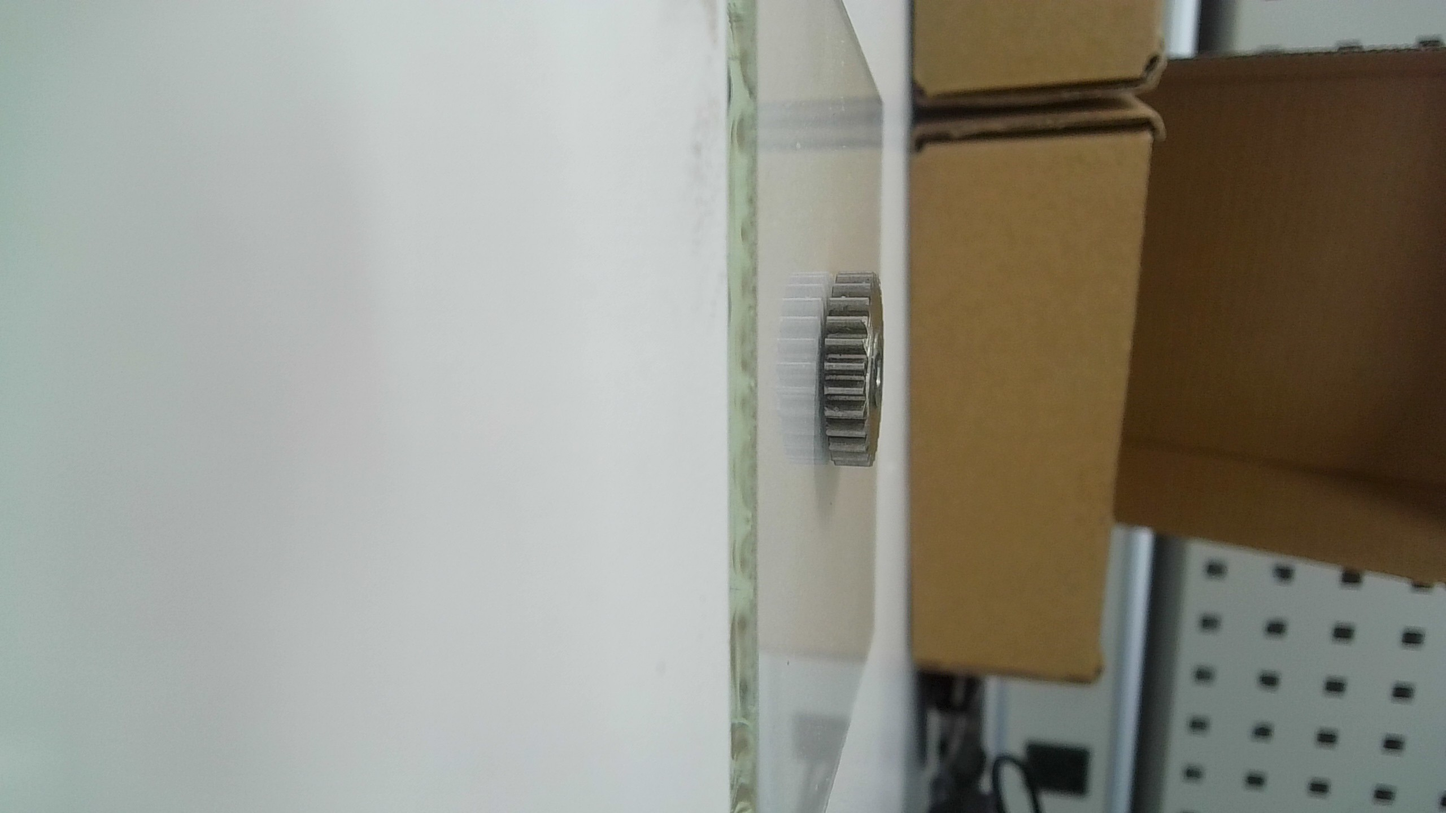gear: (818, 267, 885, 468)
